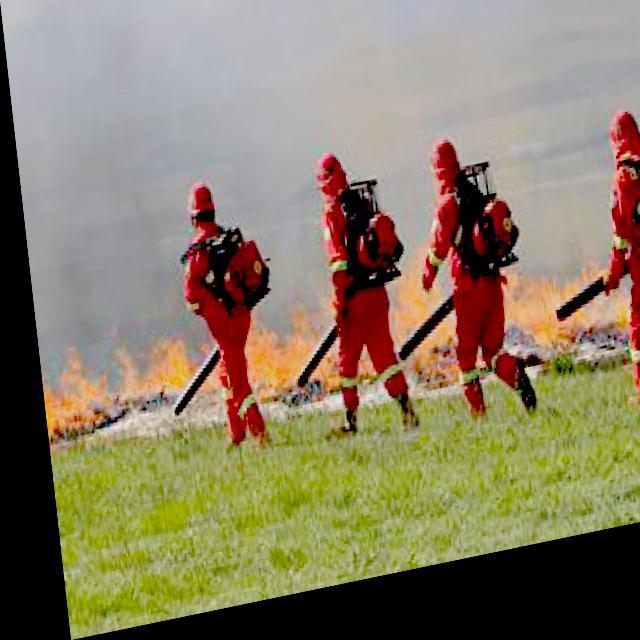Fire: (30, 249, 628, 475)
